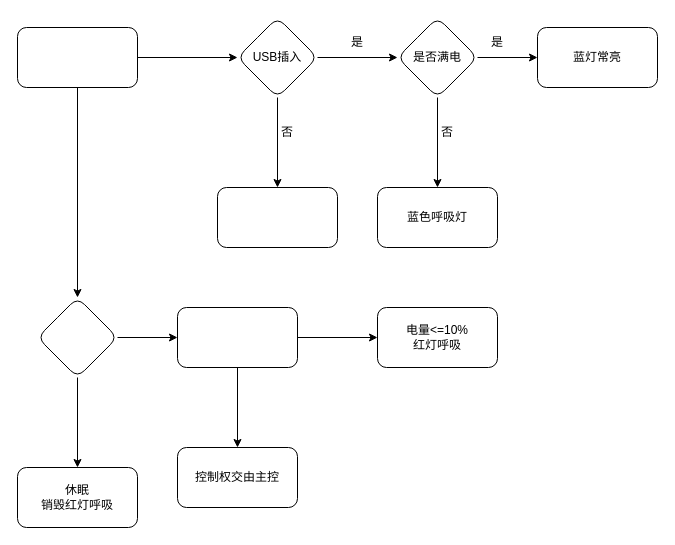
Some shapes in this 675 by 545 pixel diagram are drawn without their labels. Here are the shapes that lost their labels. From the top down, the centre of each, then its label:
At point 77,57: "上电".
At point 277,217: "销毁蓝灯呼吸".
At point 77,337: "DSP状态".
At point 237,337: "唤醒 蓝灯呼吸(未充电电量>10)".
